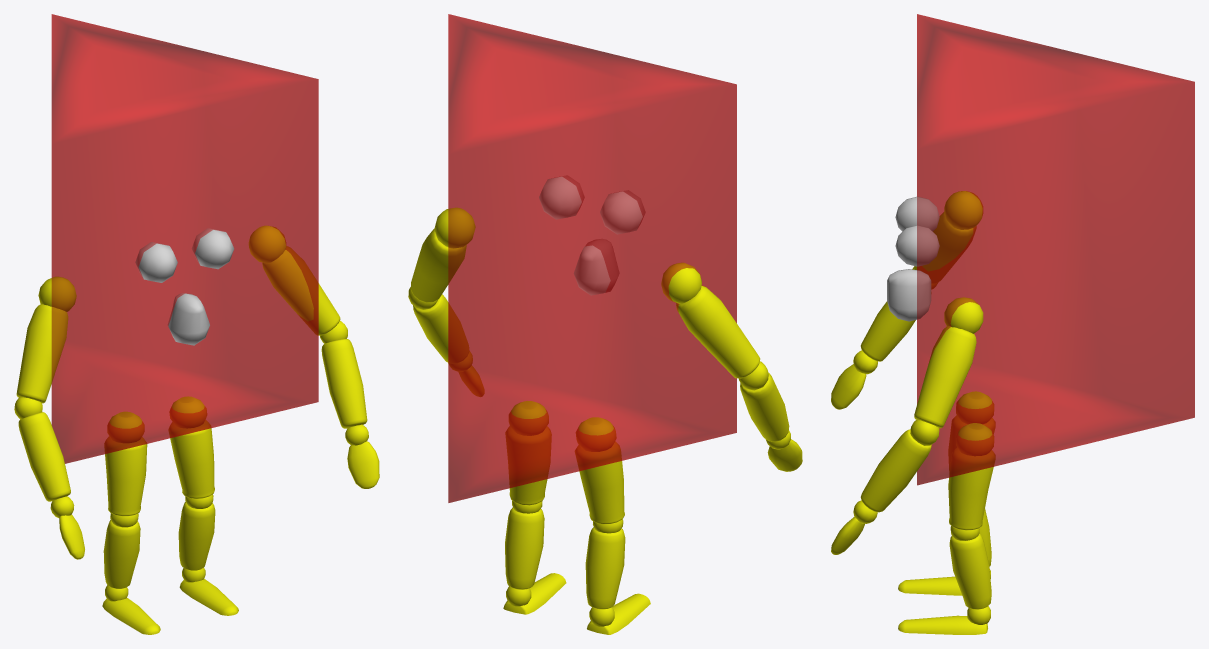
Rendered from Prismas - 03 - 11.fbx.
The picture shows the model from 3 angles, left to right: view 1: azimuth 30°, elevation 25°; view 2: azimuth 150°, elevation 25°; view 3: azimuth 270°, elevation 25°; orthographic projection. The views are drawn at different scales.
Visible parts, largest first — view 1: Prisma 3 - Rostro1; view 2: Prisma 3 - Rostro1; view 3: Prisma 3 - Rostro1.
Part boxes in pixels (left/top/right/bottom): Prisma 3 - Rostro1: left=14, top=14, right=379, bottom=634; Prisma 3 - Rostro1: left=408, top=14, right=802, bottom=634; Prisma 3 - Rostro1: left=831, top=14, right=1194, bottom=634.
Size of the model in its own units: 139 by 204 by 128.
